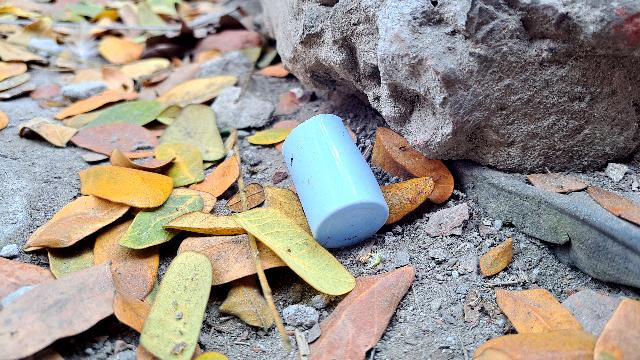hardplastic: (280, 102, 397, 243)
